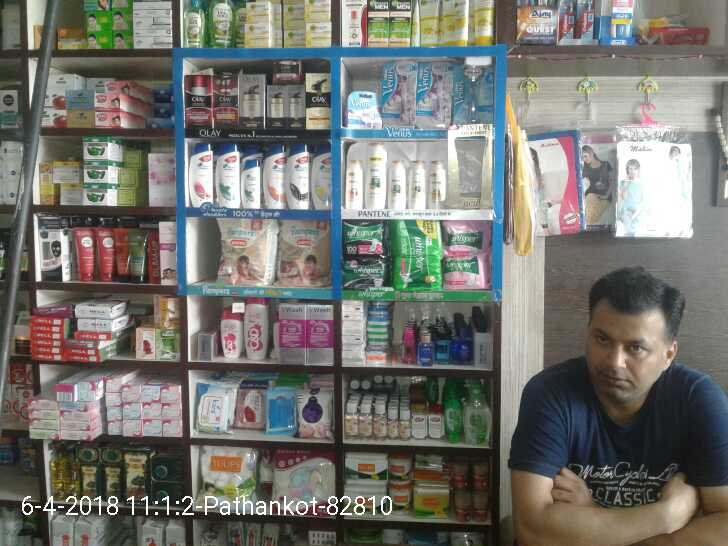venus: (453, 60, 492, 124), (381, 59, 418, 125), (418, 59, 452, 127), (348, 92, 381, 125)
